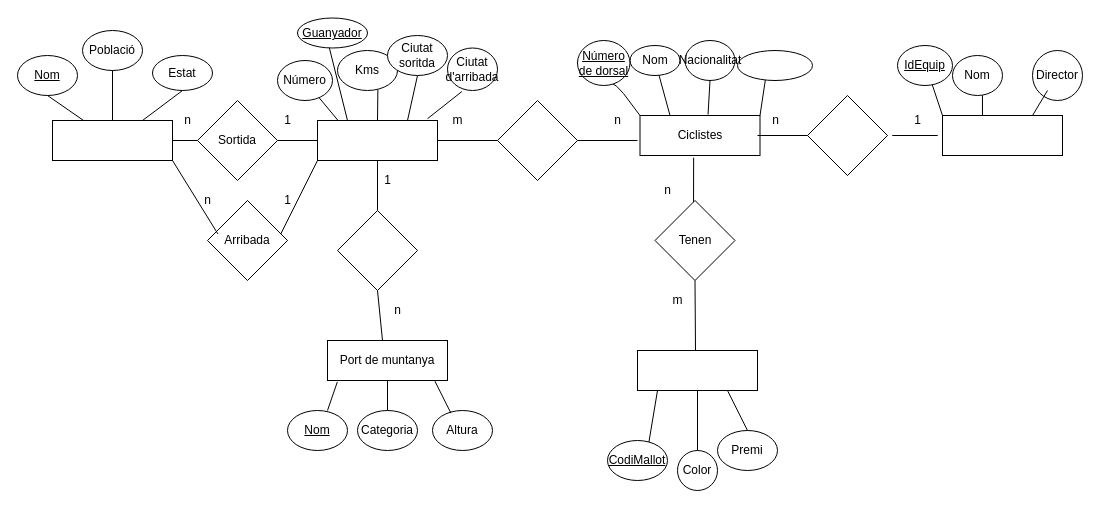
Some shapes in this 1100 by 508 pixel diagram are drawn without their labels. The shapes that lost their labels are listed below. From the top down, each one's centre as x and y in pixels, then its label:
At pixel 774 65: "Data de naixement".
At pixel 112 140: "Ciutats".
At pixel 377 140: "Etapa".
At pixel 537 140: "Participen".
At pixel 847 135: "Pertanyen".
At pixel 1002 135: "Equips".
At pixel 377 250: "Consta".
At pixel 697 370: "Mallot".
